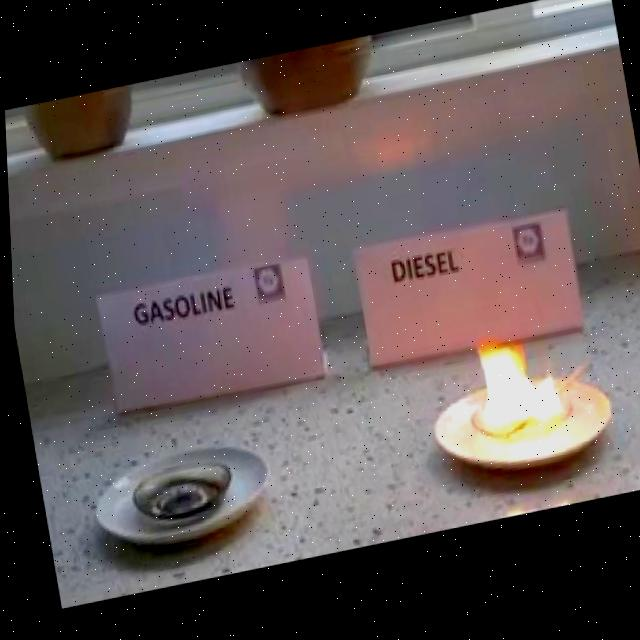Fire: (464, 331, 562, 452)
